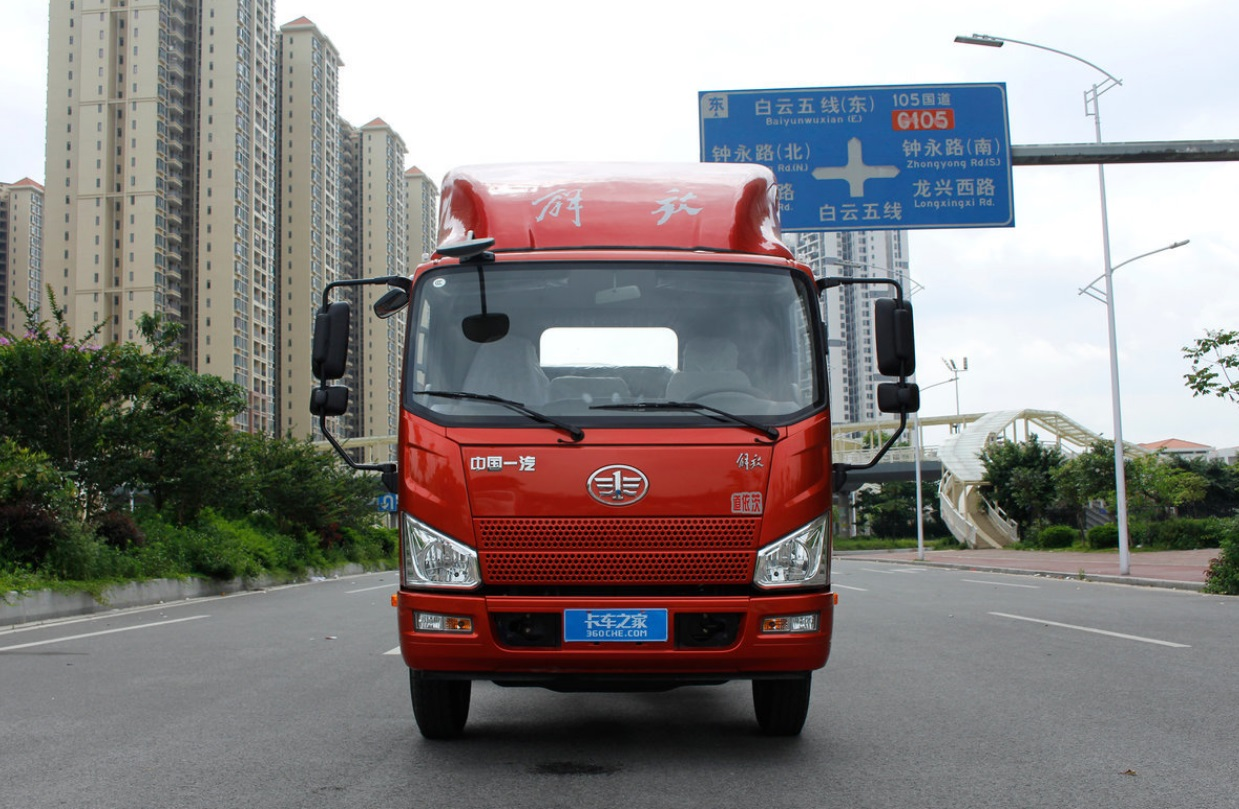truck: (308, 159, 923, 750)
